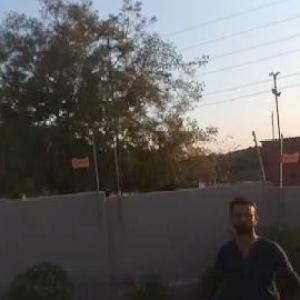follow: (194, 185, 300, 299)
